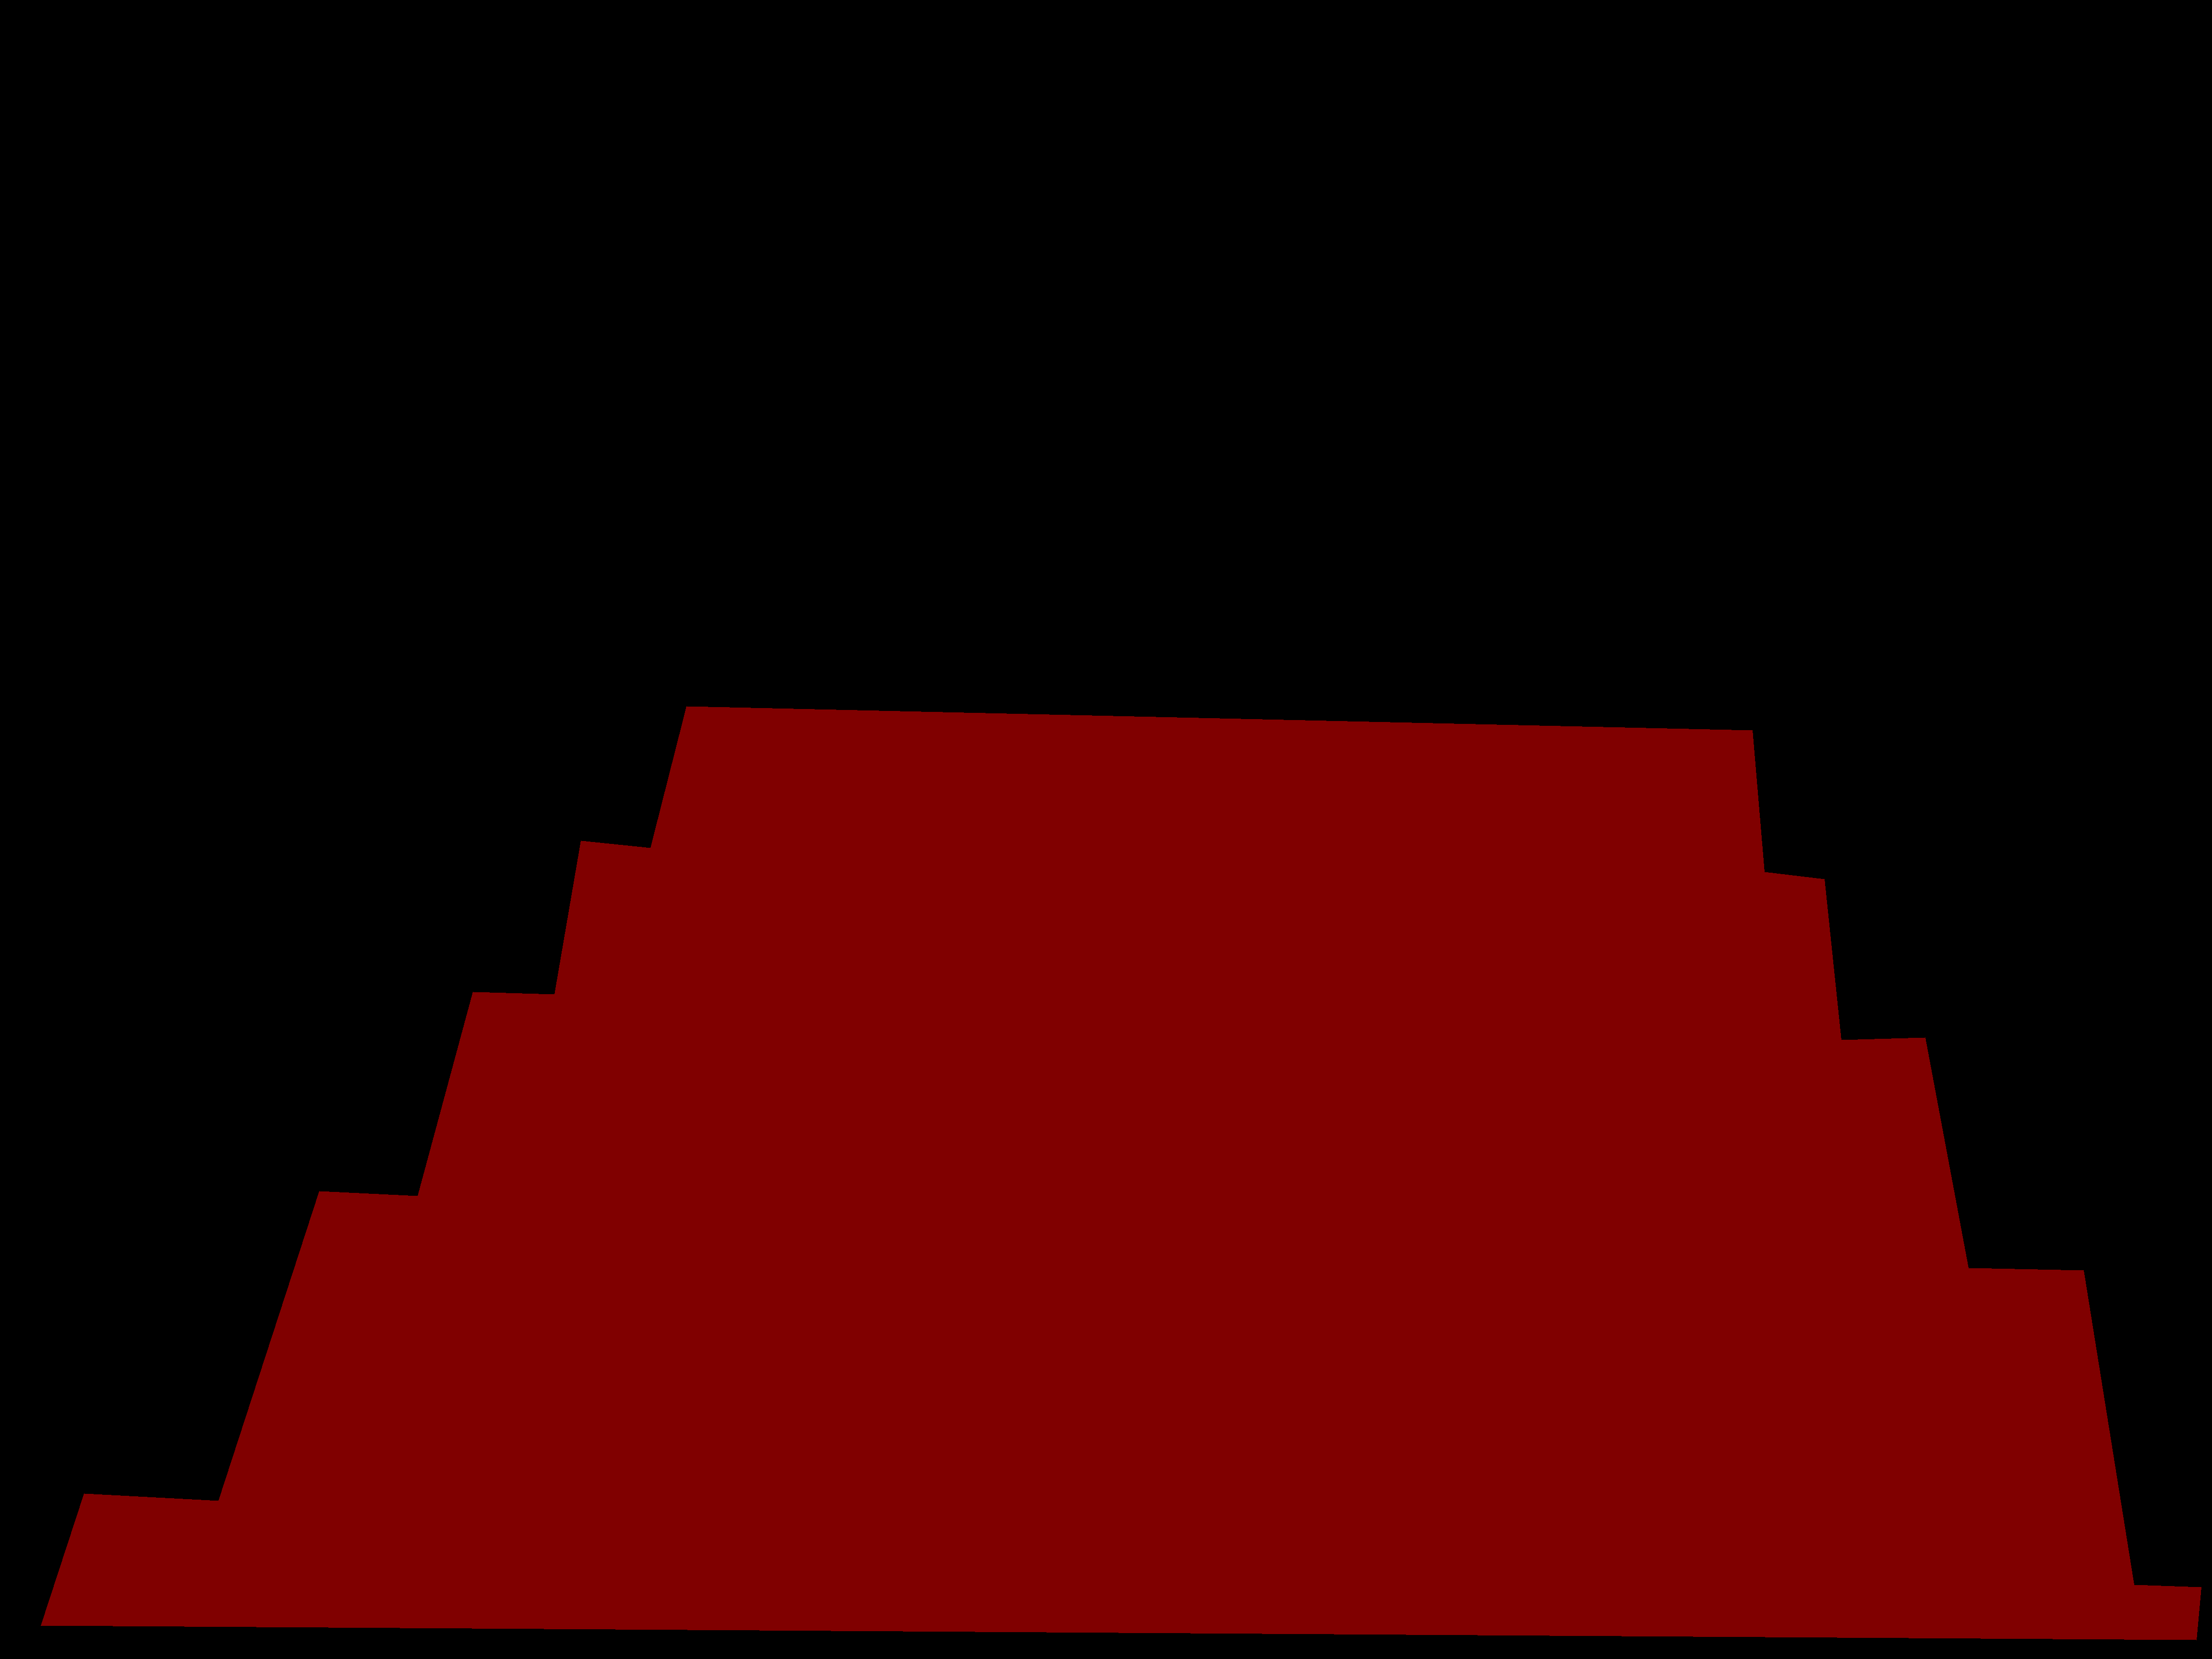stair: (40, 706, 2202, 1640)
